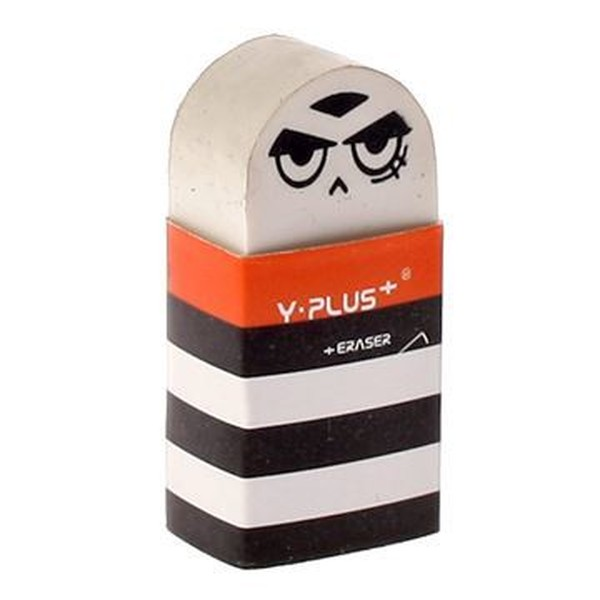eraser: (157, 18, 442, 578)
